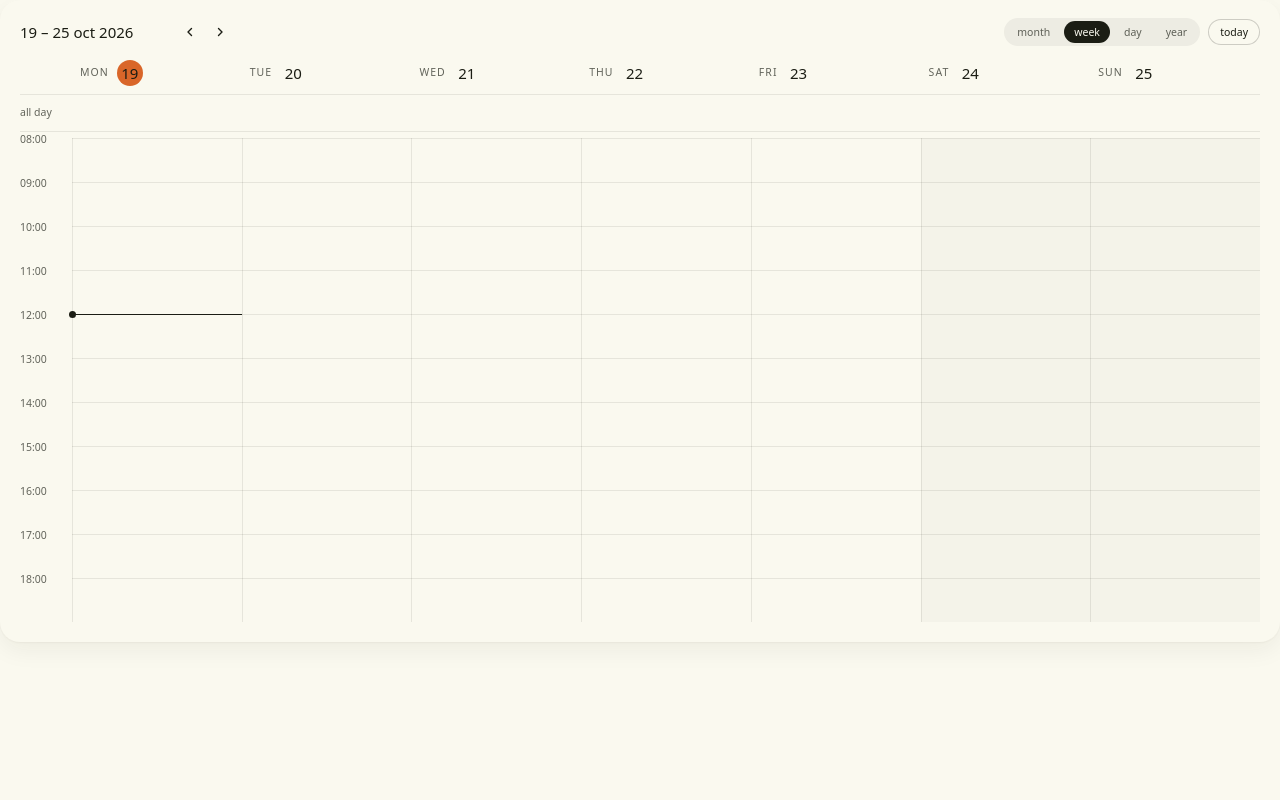
Test: week header › when the span is week, the period is the week, prev and next step a week, and today stays on the week span
The image size is (1280, 800).
Expected: the text "19 – 25 oct 2026" is shown, [20,22,133,42]
Expected: the radio button labelled "week" is checked, [1064,21,1110,43]
Click the button named "Next week" at point(220, 32), box [206,18,234,46]
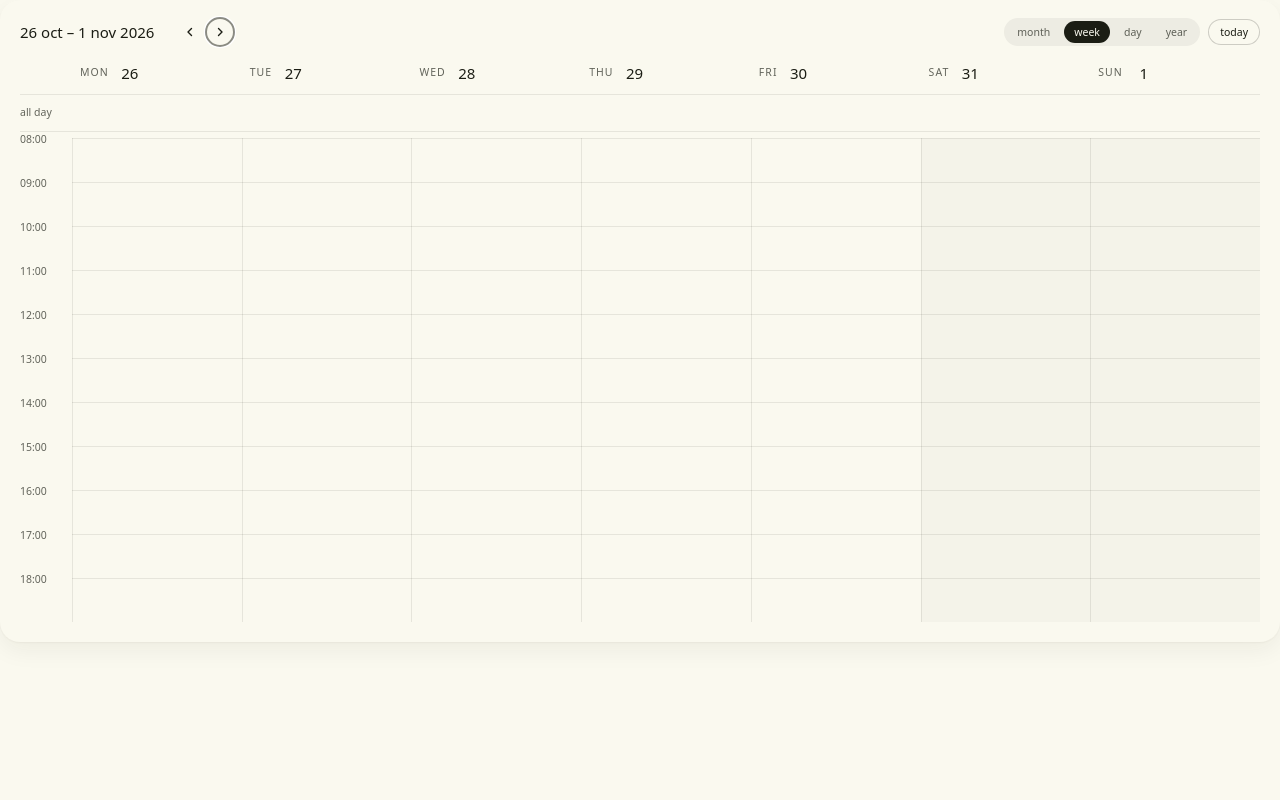
Expected: the radio button labelled "week" is checked, [1064,21,1110,43]
Expected: the text "26 oct – 1 nov 2026" is shown, [20,21,170,43]
Click the button named "Previous week" at point(190, 32), box [176,18,204,46]
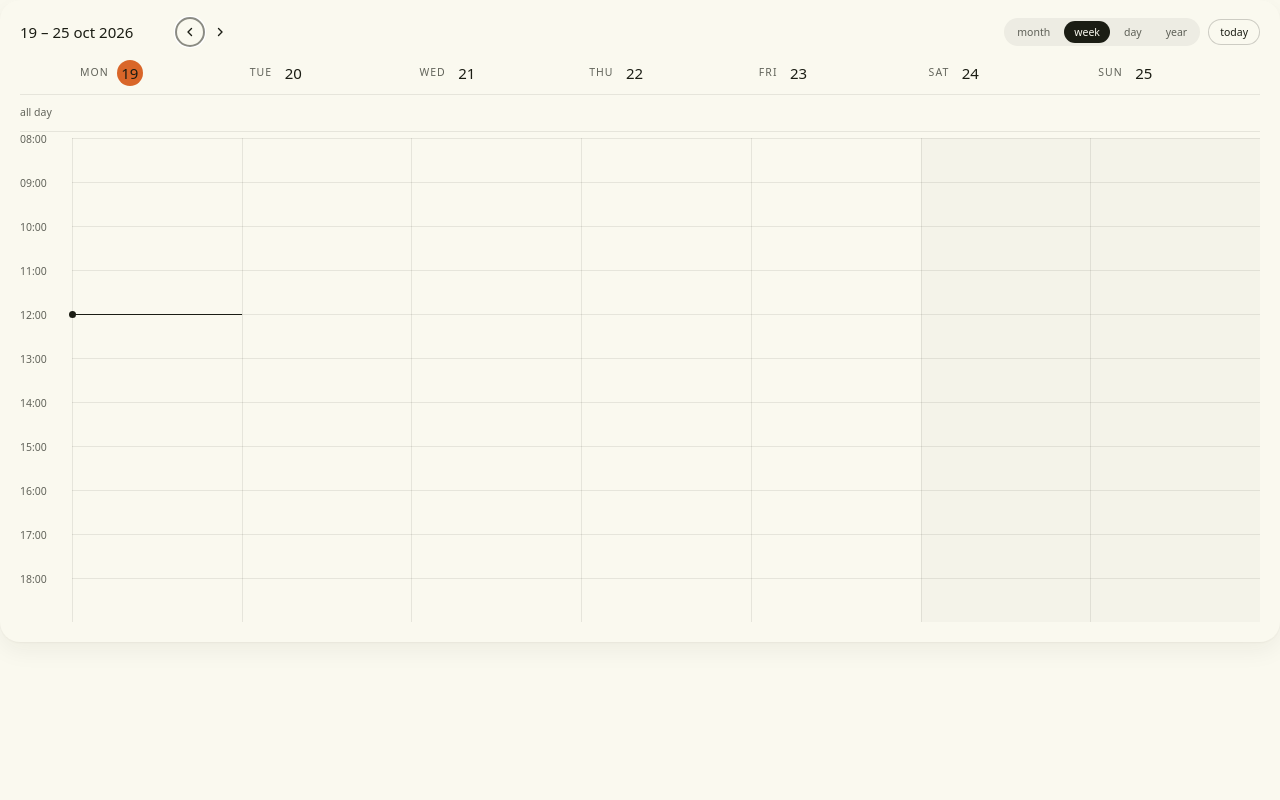
Expected: the radio button labelled "week" is checked, [1064,21,1110,43]
Expected: the text "19 – 25 oct 2026" is shown, [20,22,133,42]
Click the button named "Next week" at point(220, 32), box [206,18,234,46]
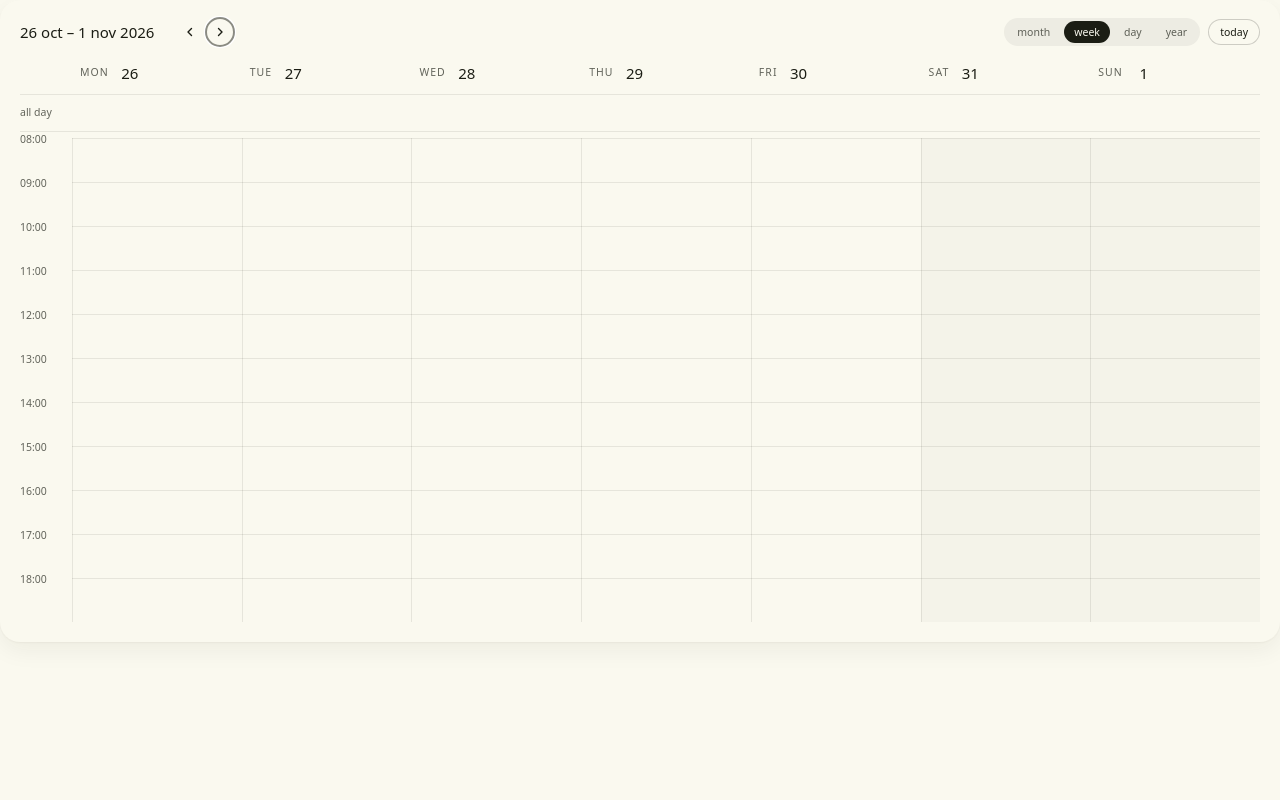
Expected: the text "26 oct – 1 nov 2026" is shown, [20,21,170,43]
Click the button "today" at point(1234, 32), box [1208,19,1260,45]
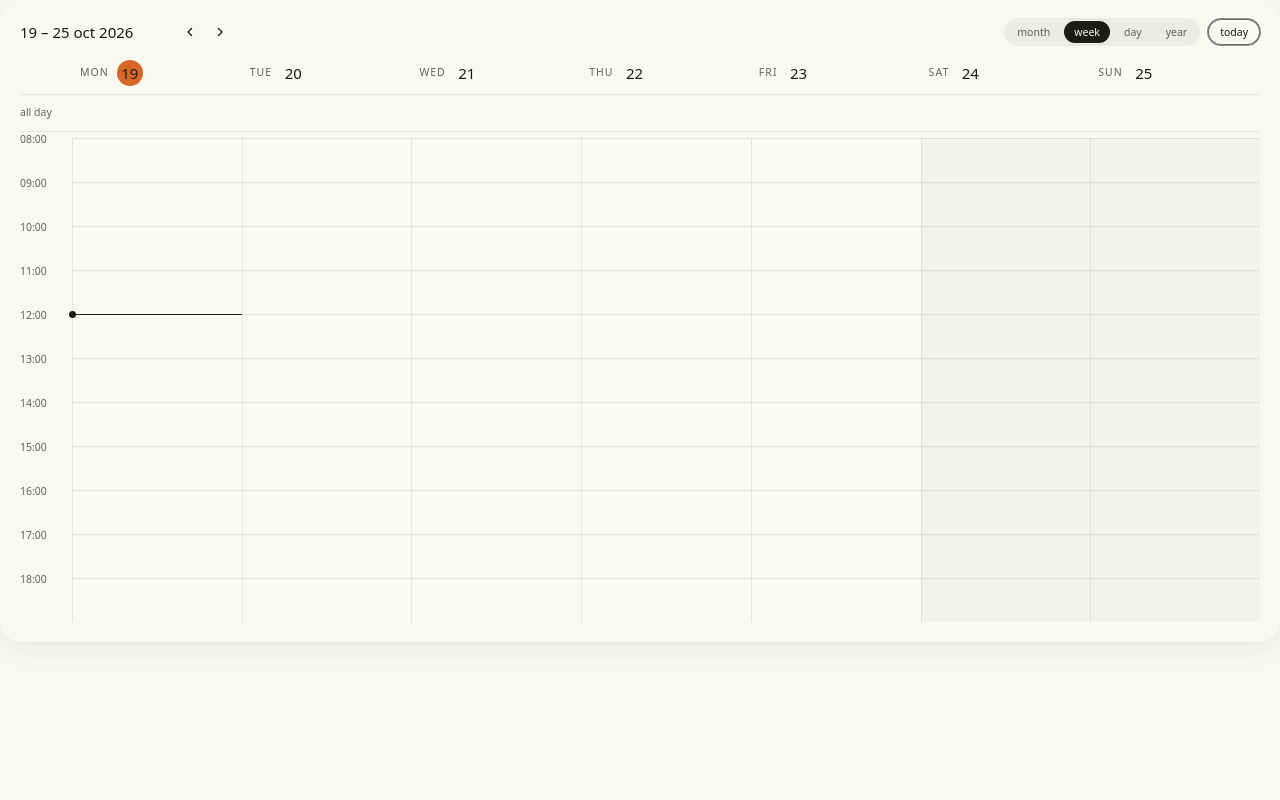
Expected: the radio button labelled "week" is checked, [1064,21,1110,43]
Expected: the text "19 – 25 oct 2026" is shown, [20,22,133,42]
